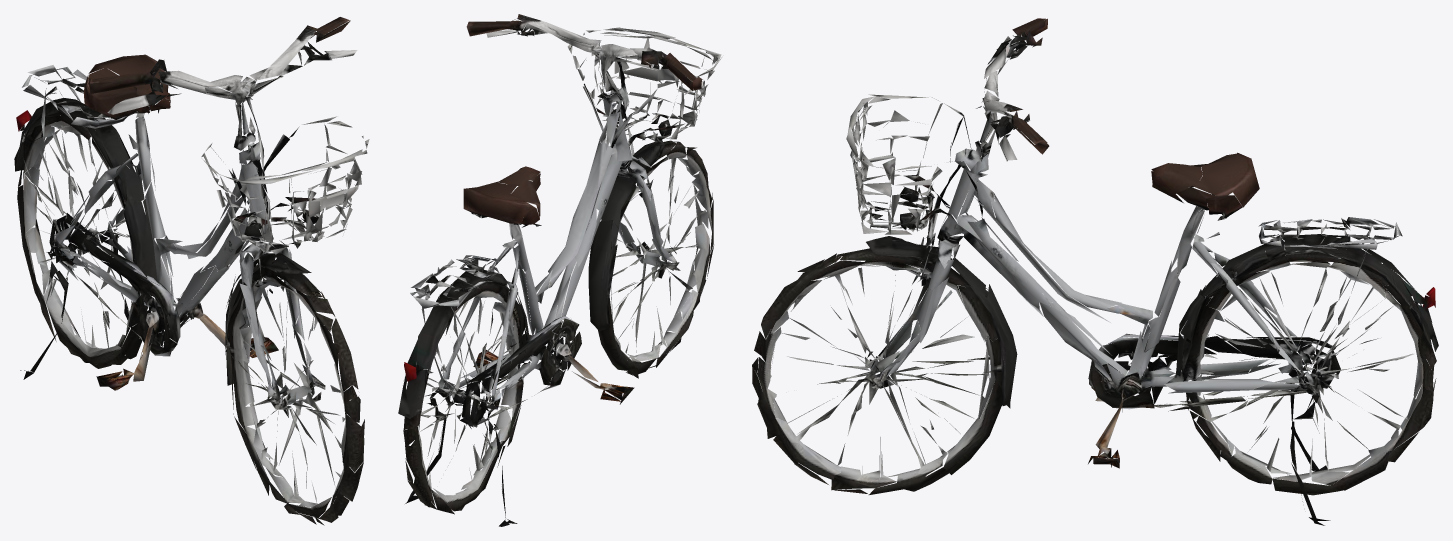
File: bicycle.glb
3 renders of one model, left to right at view 1: azimuth 30°, elevation 25°; view 2: azimuth 150°, elevation 25°; view 3: azimuth 270°, elevation 25°, orthographic. The views are drawn at different scales.
Parts seen in each view (by area): view 1: tripo_node_0d18851a-4ed2-4558-99d0-f5ef59bc4846; view 2: tripo_node_0d18851a-4ed2-4558-99d0-f5ef59bc4846; view 3: tripo_node_0d18851a-4ed2-4558-99d0-f5ef59bc4846.
Part boxes in pixels (x1,y1,x2,y2): tripo_node_0d18851a-4ed2-4558-99d0-f5ef59bc4846: (14,17,369,525); tripo_node_0d18851a-4ed2-4558-99d0-f5ef59bc4846: (398,14,721,526); tripo_node_0d18851a-4ed2-4558-99d0-f5ef59bc4846: (752,18,1438,525).
Bounding box in the file's own units: 0.7702 × 1.2 × 1.73.
Materials: 1 (1 with a texture image).
